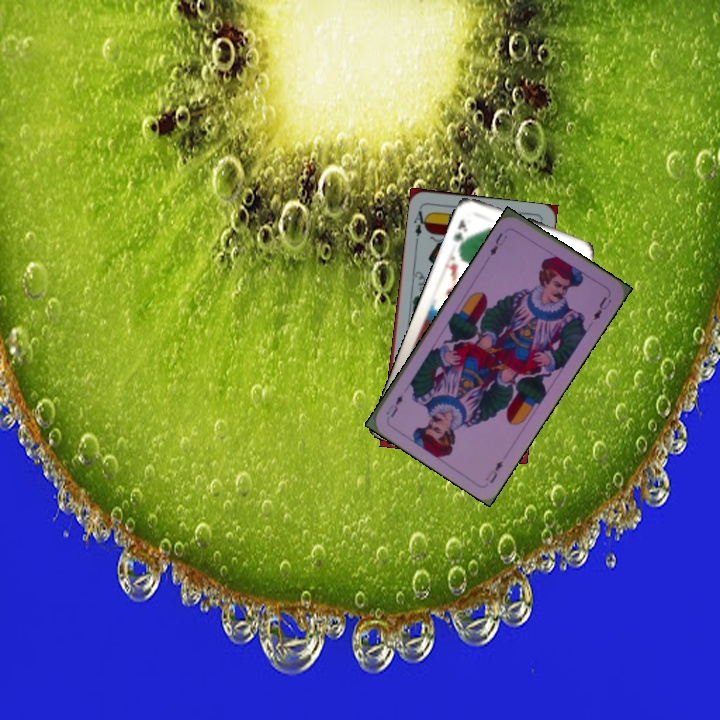EA: (410, 204, 430, 244)
EU: (485, 228, 510, 258), (481, 457, 505, 486)
GK: (449, 215, 470, 250)
